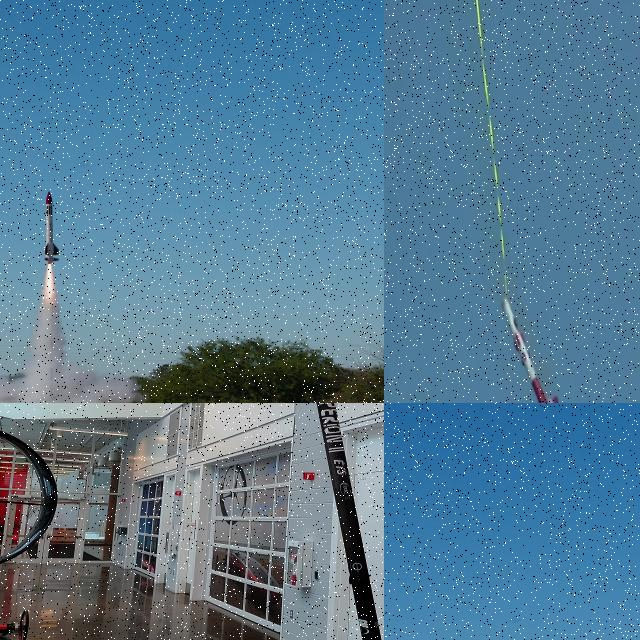Rocket: (317, 403, 382, 640), (501, 293, 563, 403), (43, 190, 60, 264)
